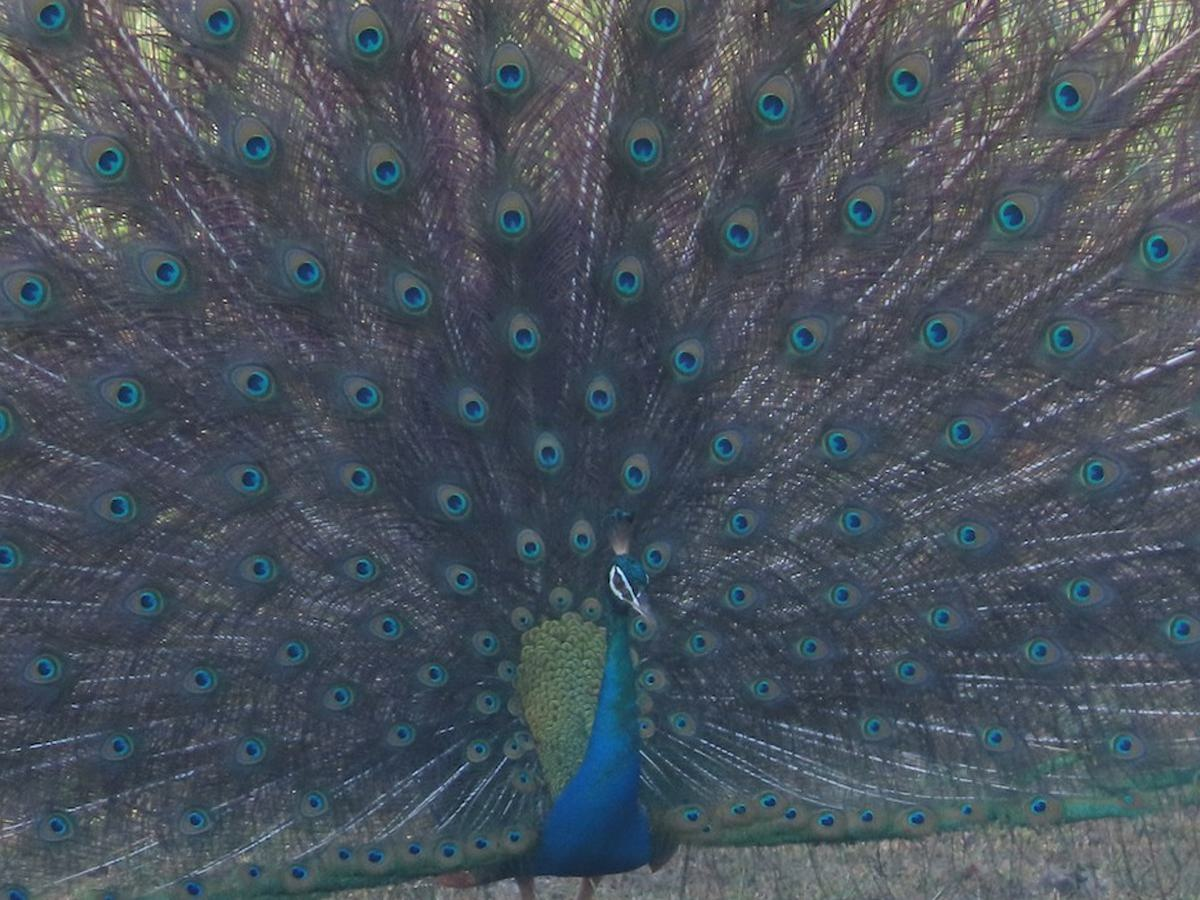peacock: (1, 1, 1181, 880)
